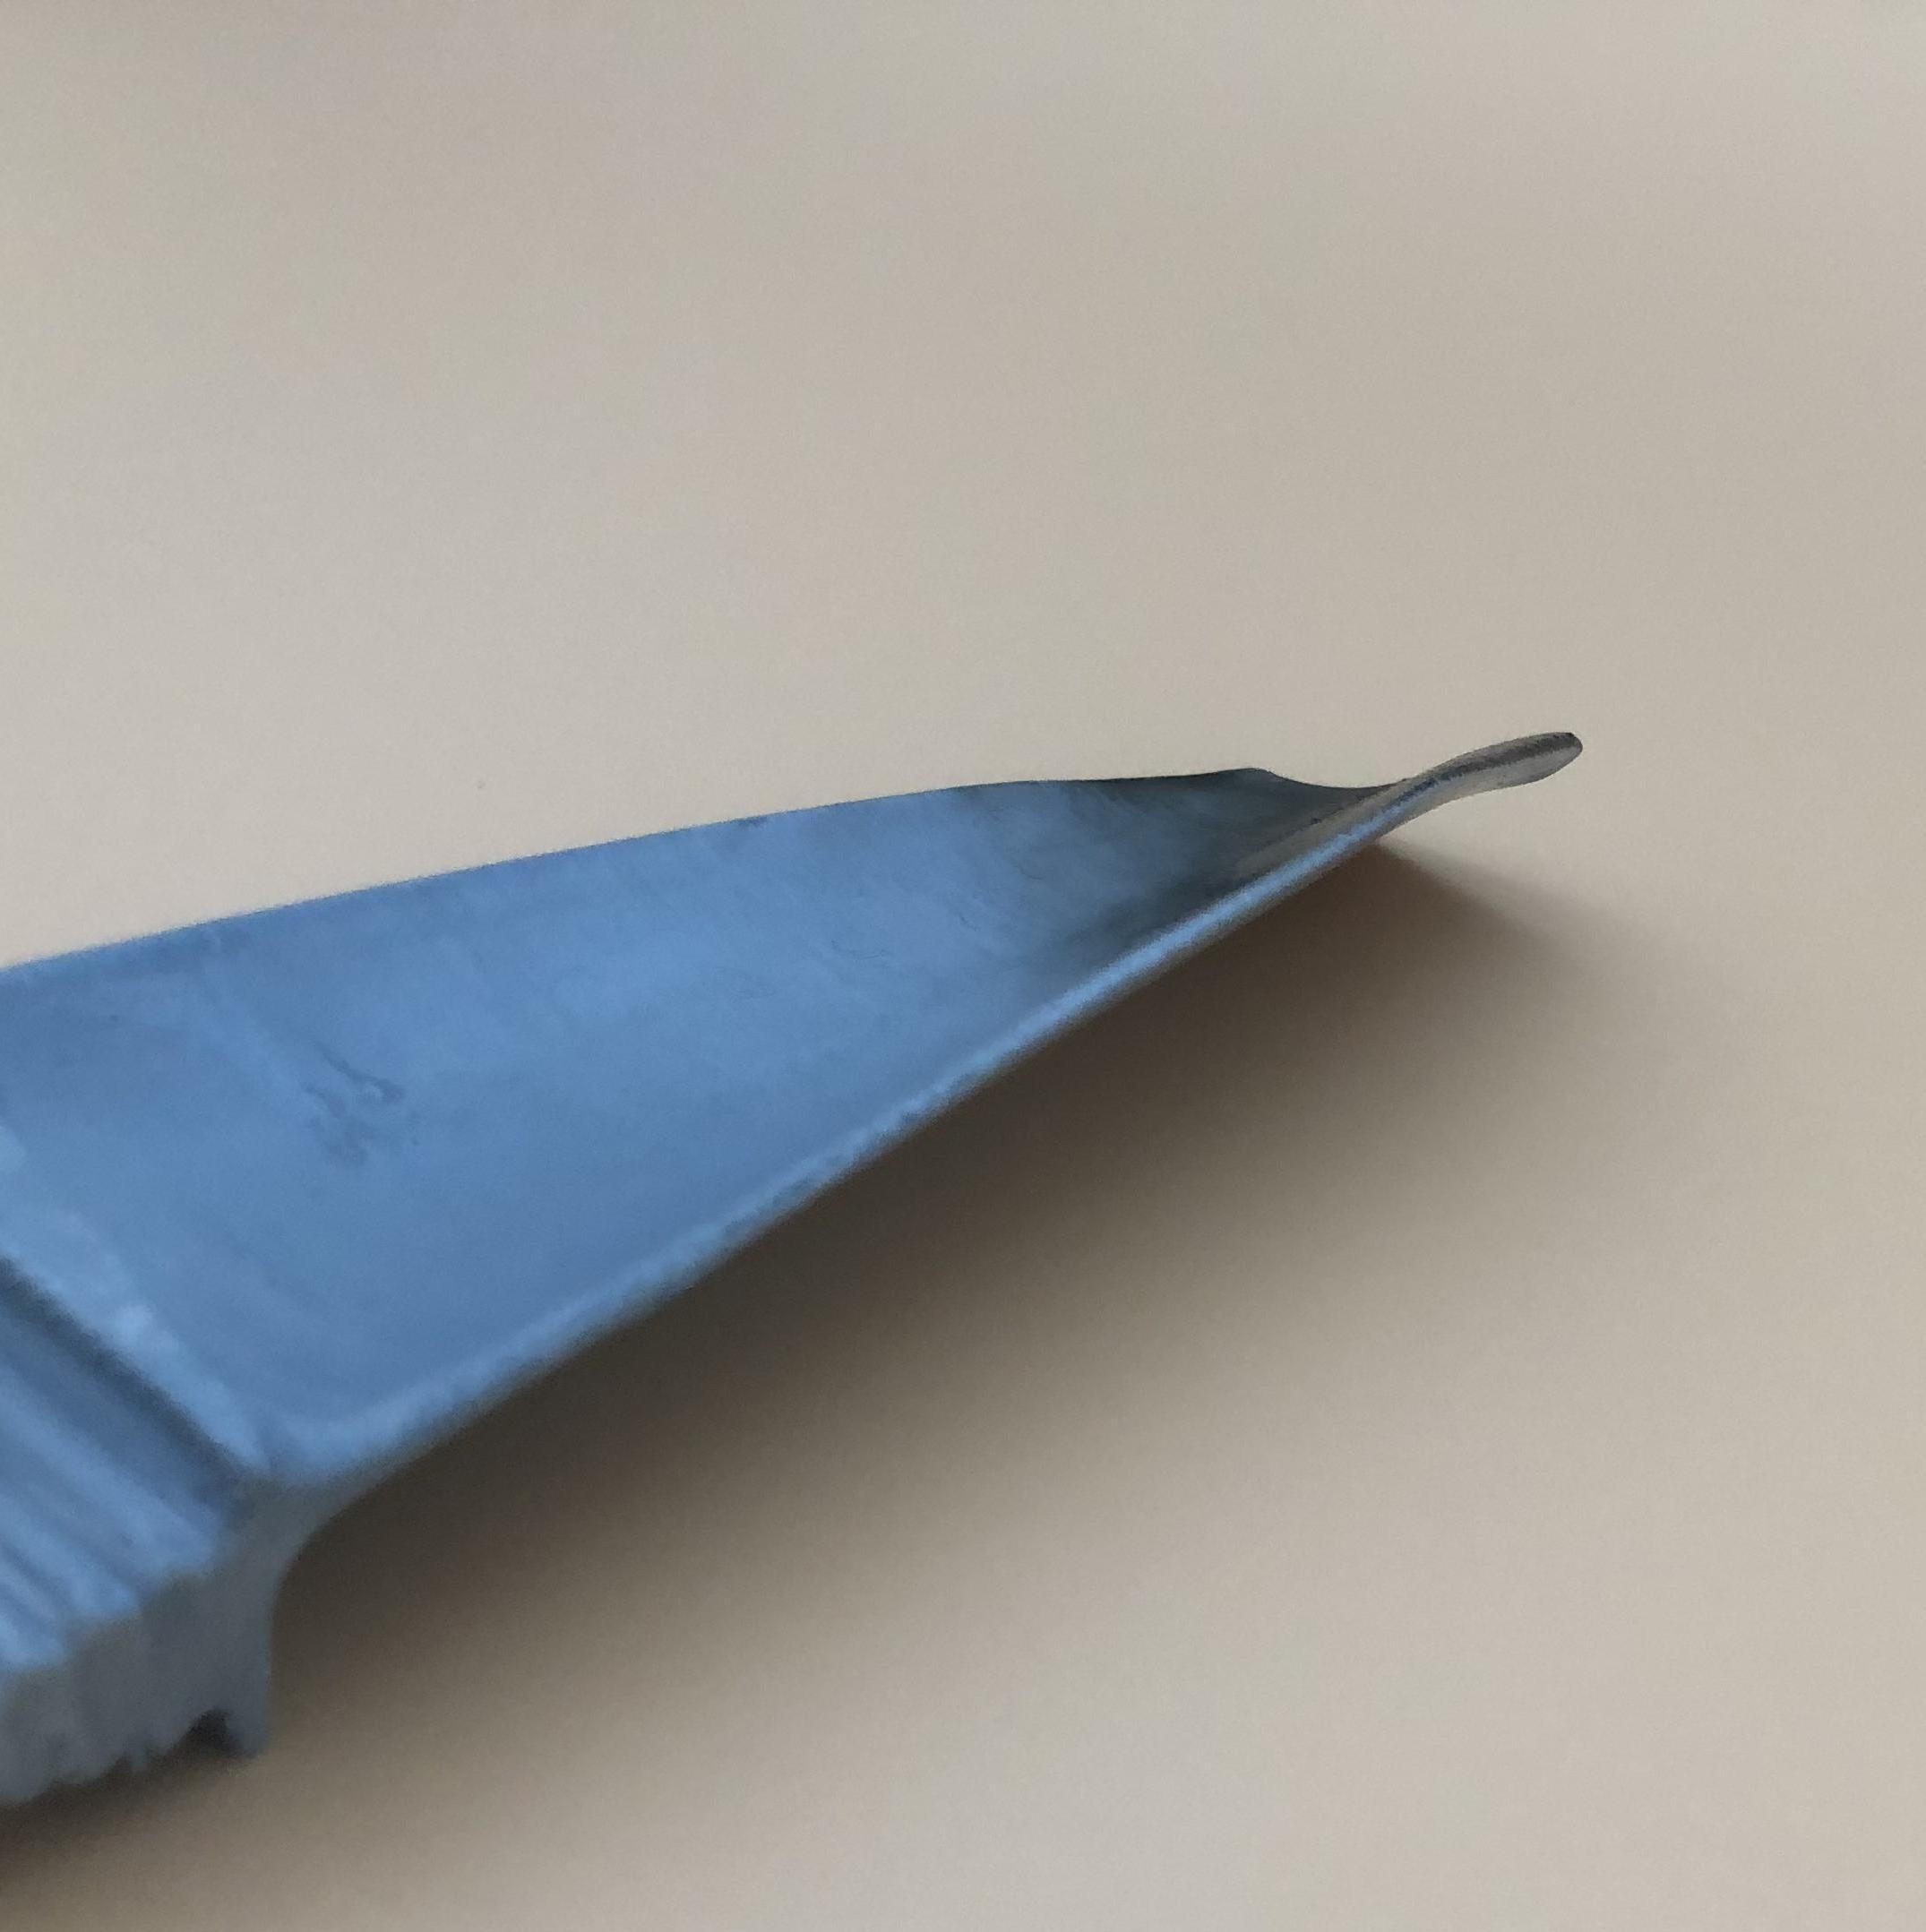ablation: (1111, 777, 1547, 887)
